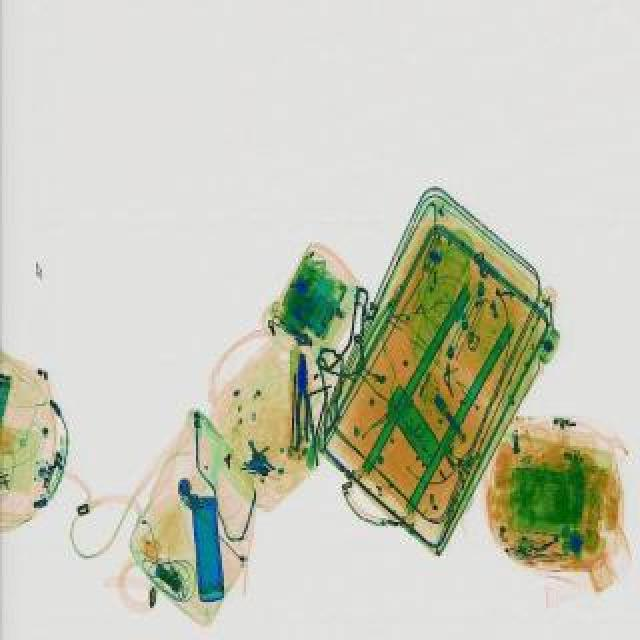wrench: (294, 352, 310, 444)
